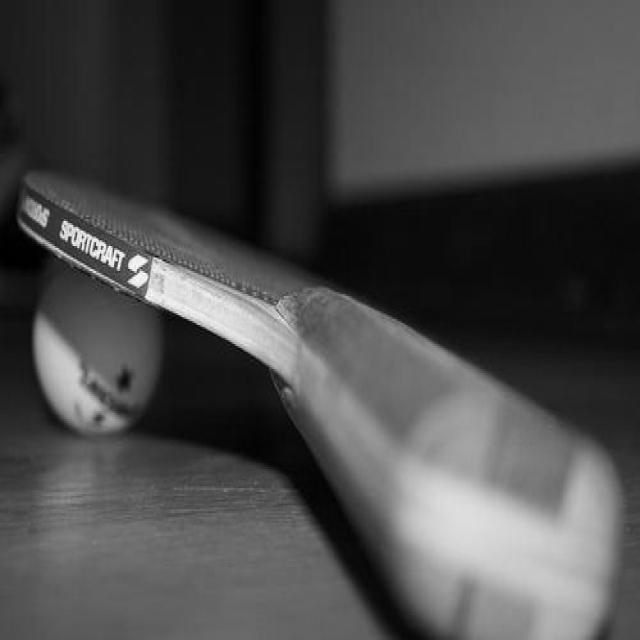ping-pong-ball: (33, 252, 163, 437)
